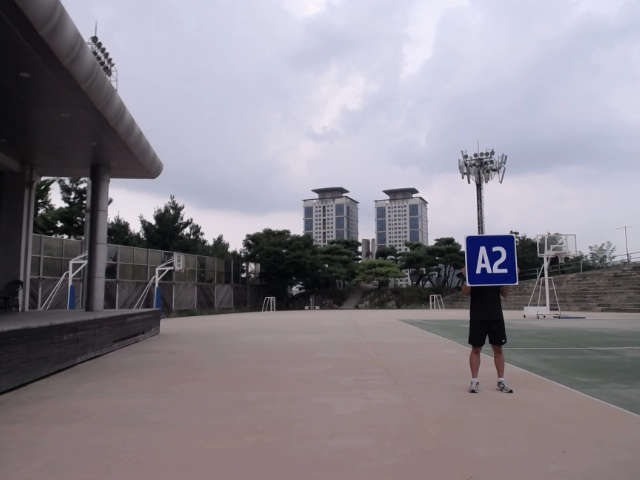delivery_a2: (465, 235, 517, 286)
